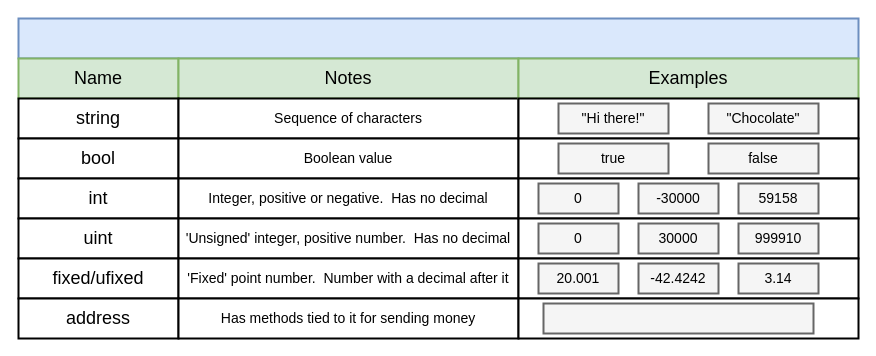
This 876x356 diagram has some shape labels left out. The centre of each missing label's shape, as x and y in pixels:
"0x18bae199c8dbae199c8d" belongs at [678,318].
"Basic Types" belongs at [438,38].
